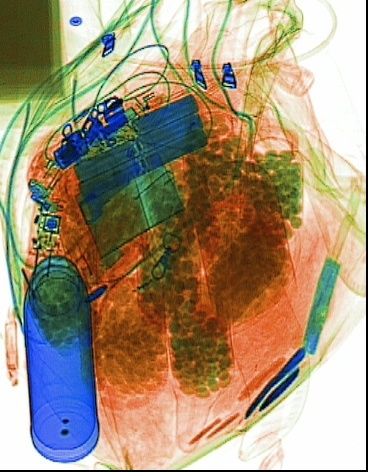powerbank: (54, 84, 215, 209)
